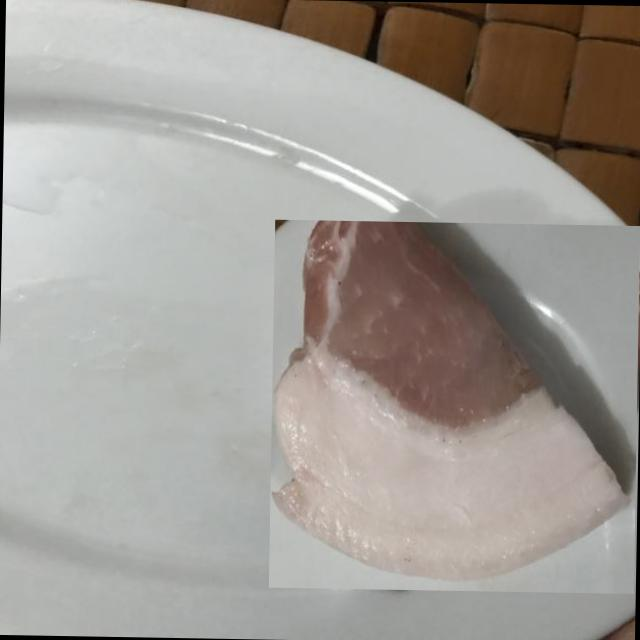chicken: (268, 220, 640, 593)
